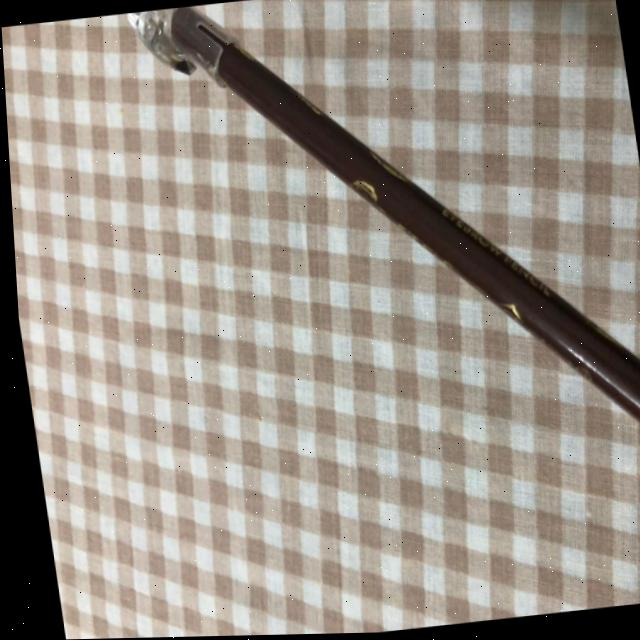lip liner: (103, 0, 640, 598)
